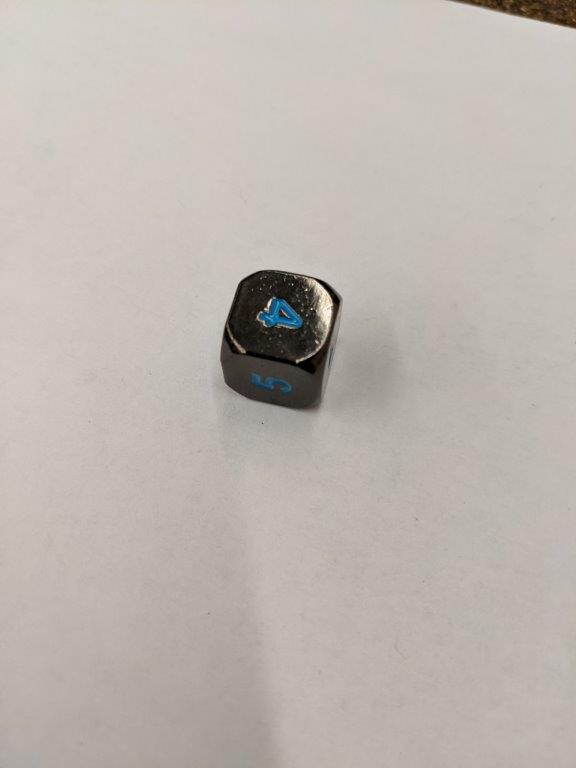d6-4: (217, 270, 339, 413)
